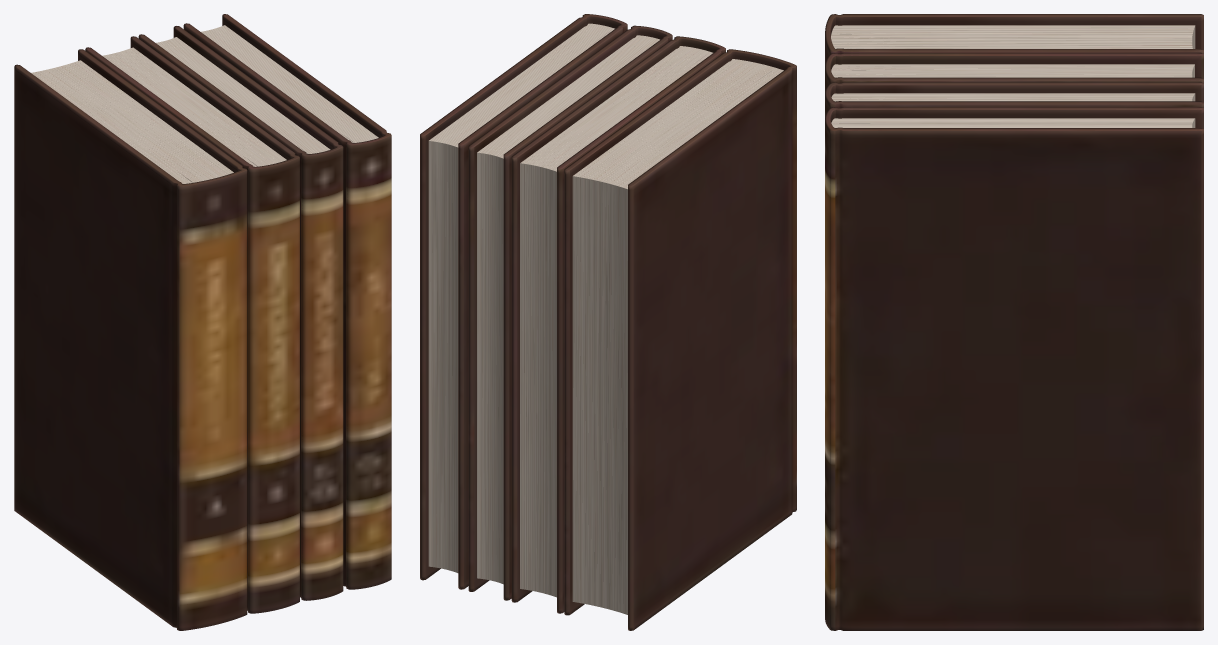
File: book_encyclopedia_set_01-reduced.glb
3 views of the same model, side by side, from view 1: azimuth 30°, elevation 25°; view 2: azimuth 150°, elevation 25°; view 3: azimuth 270°, elevation 25° (orthographic). The views are drawn at different scales.
Visible parts, largest first — view 1: literature_book_stack; view 2: literature_book_stack; view 3: literature_book_stack.
Part boxes in pixels (<box>): literature_book_stack: <box>14,14,391,630</box>; literature_book_stack: <box>420,14,796,630</box>; literature_book_stack: <box>825,14,1203,630</box>.
Size of the model in its own units: 0.1193 by 0.2374 by 0.1631.
Materials: 2 (2 with a texture image).
